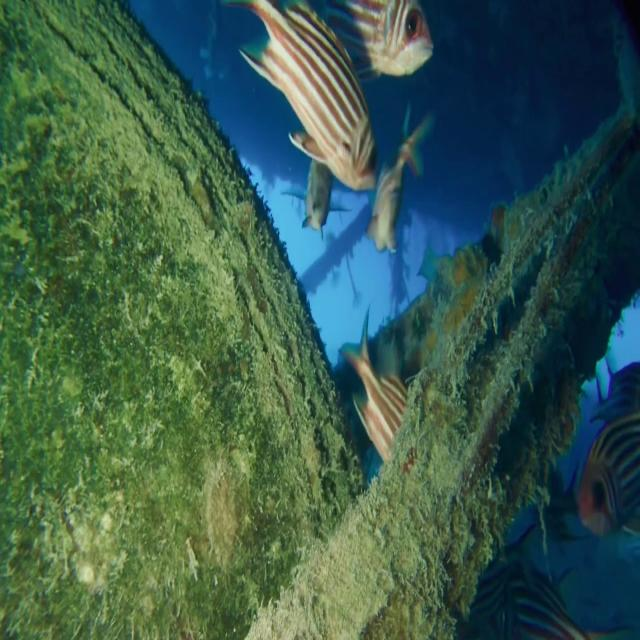Asker Baligi: (222, 0, 378, 195)
